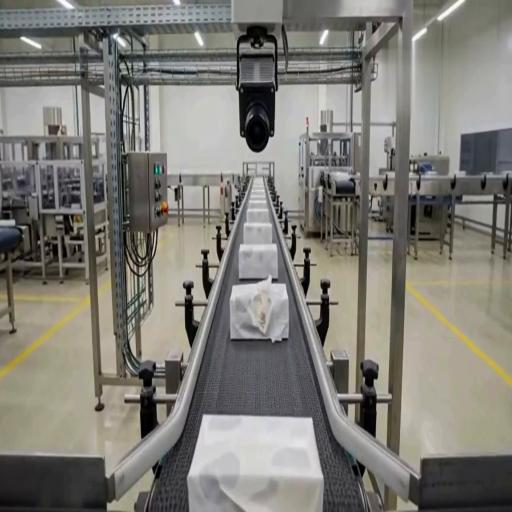defective: (190, 412, 322, 512), (229, 279, 290, 341)
good: (238, 242, 278, 282), (242, 222, 273, 246), (246, 196, 270, 214), (245, 207, 271, 223), (248, 180, 268, 194), (247, 175, 267, 185)
